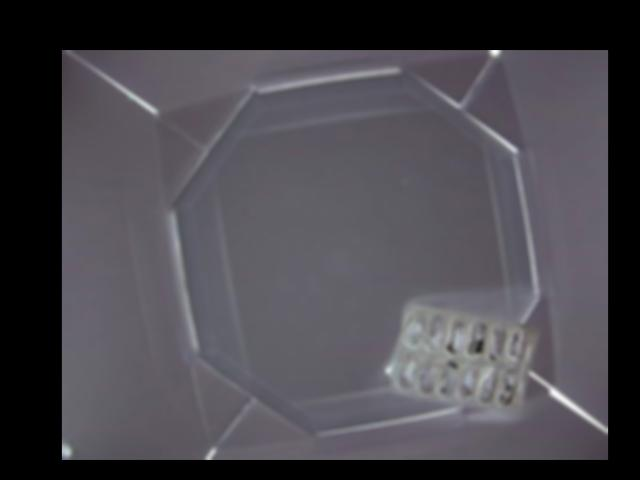Medicine: (386, 303, 538, 413)
